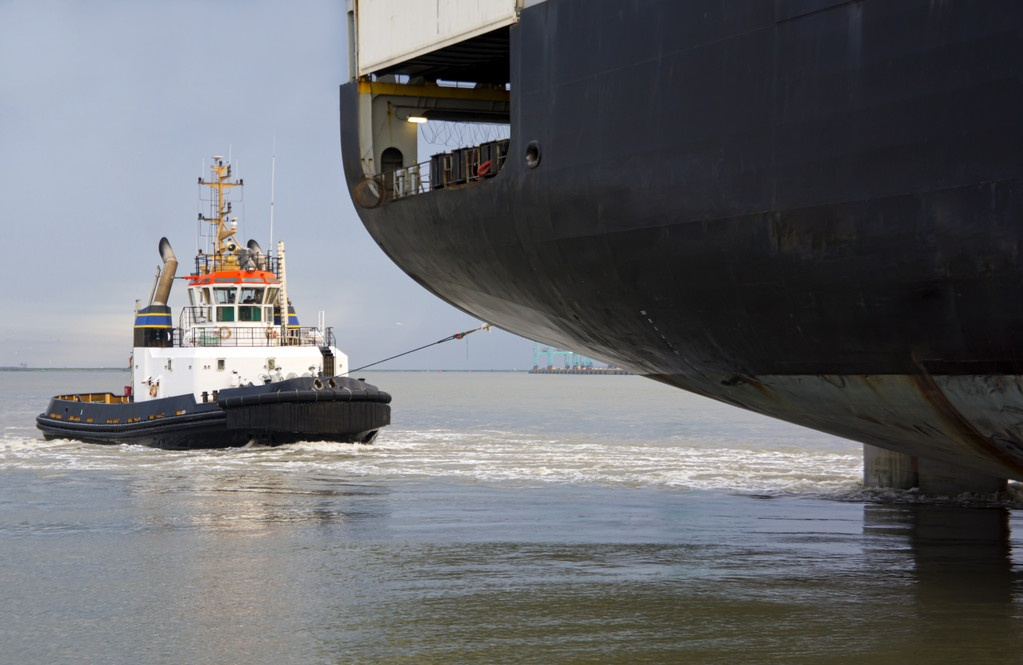otherboat: (31, 174, 405, 460)
